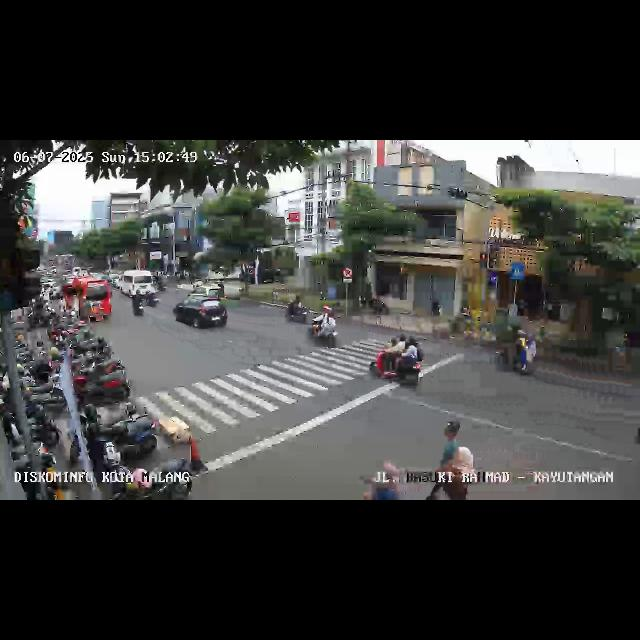car: (62, 278, 112, 324), (172, 292, 228, 332), (122, 270, 158, 296)
motorcycle: (368, 334, 424, 390), (496, 330, 538, 380), (311, 305, 339, 347), (284, 296, 308, 324), (132, 288, 148, 320), (145, 284, 159, 310)
person: (436, 446, 474, 500), (364, 460, 402, 500), (440, 420, 460, 468)
